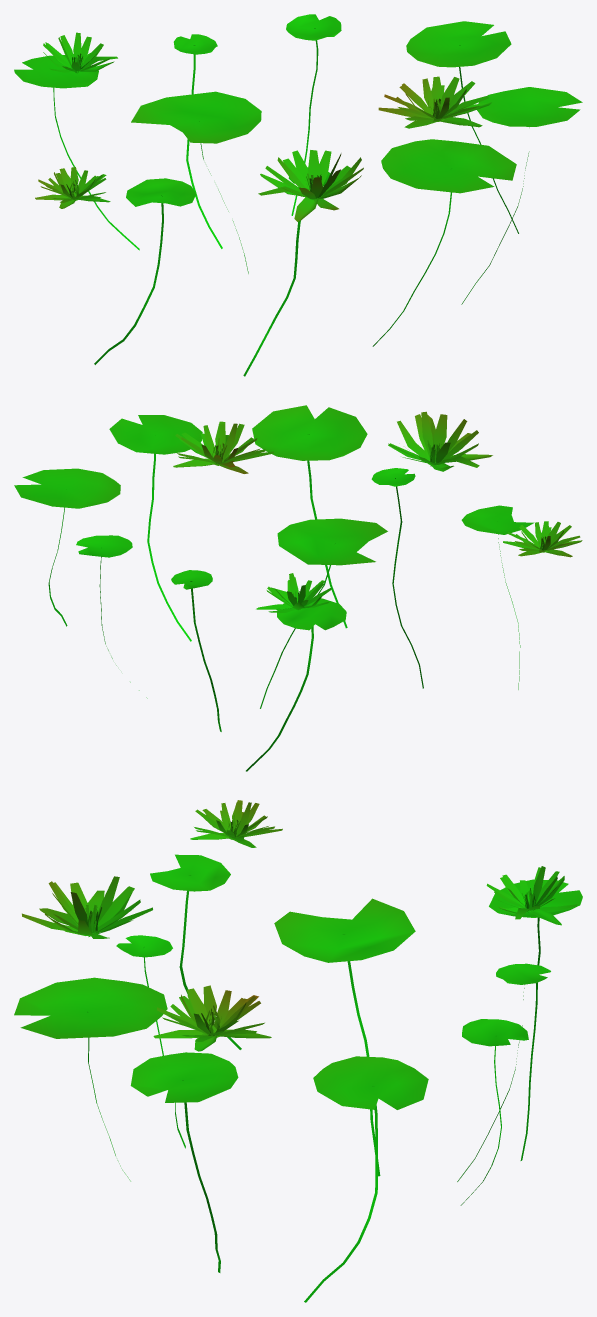
File: Carolana Water Lily_LOD1_Var7_uc2jdibia.fbx
3 renders of one model, top to bottom at view 1: azimuth 30°, elevation 25°; view 2: azimuth 150°, elevation 25°; view 3: azimuth 270°, elevation 25°, orthographic. The views are drawn at different scales.
Visible parts, largest first — view 1: merge1; view 2: merge1; view 3: merge1.
Boxes of the visible parts, x1,y1,x2,y2 form: merge1: (14, 14, 582, 376); merge1: (14, 405, 582, 771); merge1: (14, 800, 582, 1302).
Bounding box in the file's own units: 130 × 58.28 × 106.
